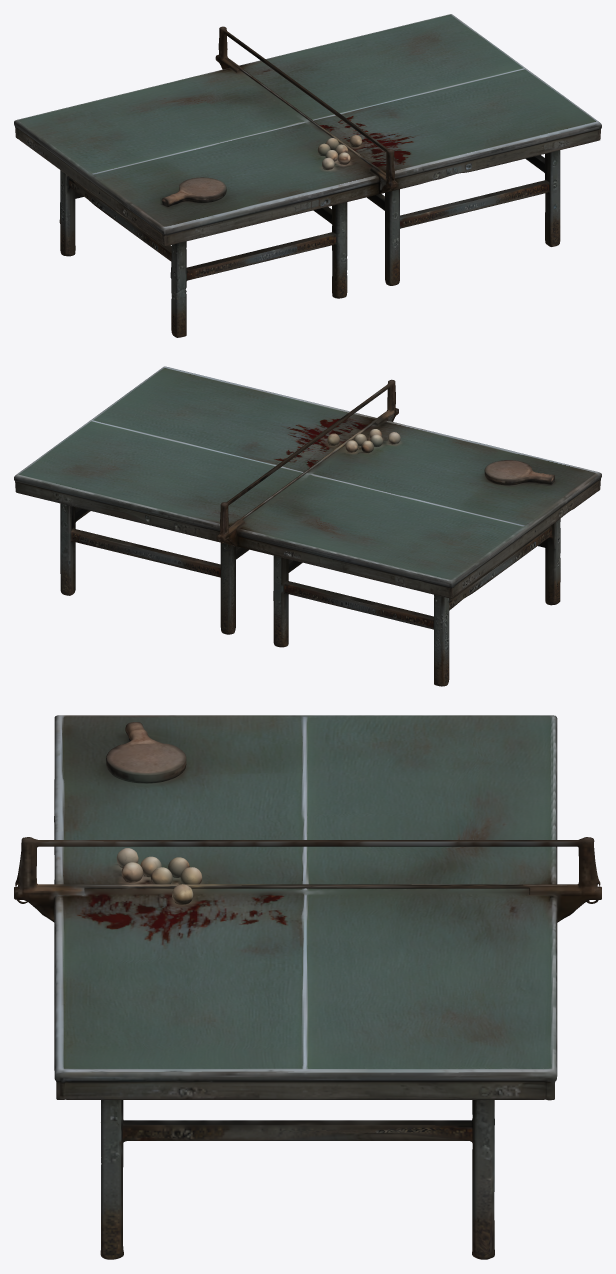
The model's file is BanDanhBongBan.fbx.
3 views of the same model, one above another, from view 1: azimuth 30°, elevation 25°; view 2: azimuth 150°, elevation 25°; view 3: azimuth 270°, elevation 25° (orthographic). The views are drawn at different scales.
Parts seen in each view (by area): view 1: node_0; view 2: node_0; view 3: node_0.
Part boxes in pixels (x1=…): node_0: x1=14, y1=14, x2=601, y2=337; node_0: x1=14, y1=366, x2=601, y2=686; node_0: x1=14, y1=715, x2=601, y2=1259.
Size of the model in its own units: 100 by 34.44 by 69.47.
Materials: 1 (1 with a texture image).
